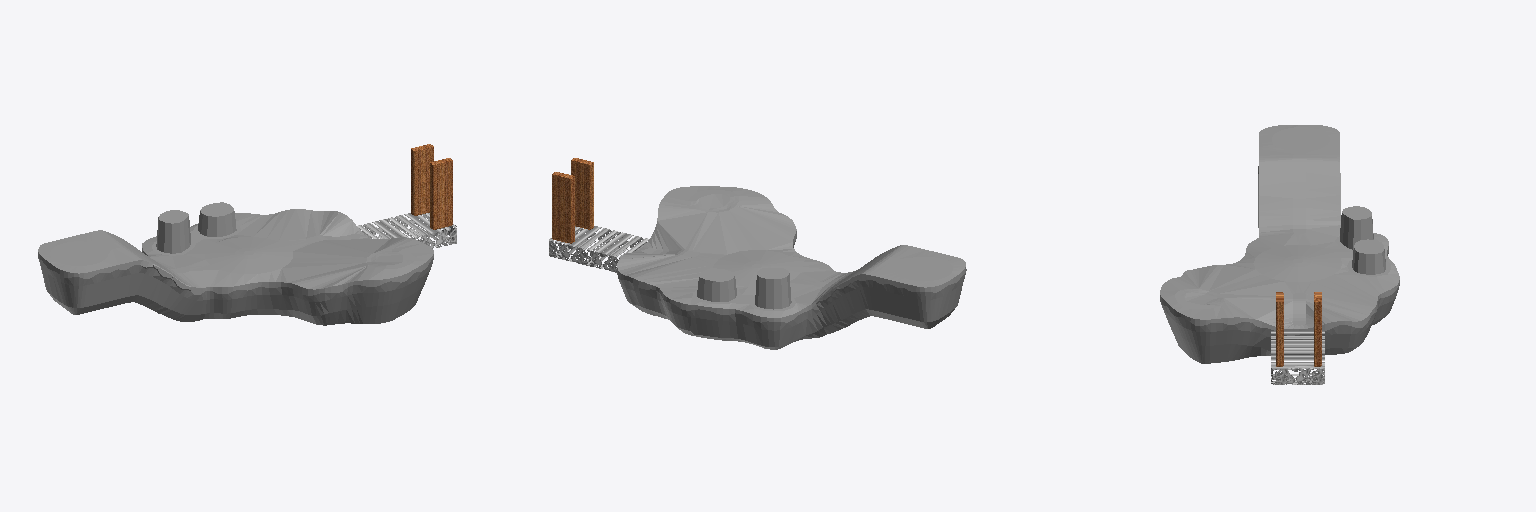
3 renders of one model, left to right at view 1: azimuth 30°, elevation 25°; view 2: azimuth 150°, elevation 25°; view 3: azimuth 270°, elevation 25°, orthographic.
Parts seen in each view (by area): view 1: Circle.001, Circle.002_Circle.003, Circle.000_Circle.002, Circle.003_Circle.004, Circle.004_Circle.006; view 2: Circle.001, Circle.002_Circle.003, Circle.000_Circle.002, Circle.003_Circle.004, Circle.004_Circle.006; view 3: Circle.001, Circle.002_Circle.003, Circle.000_Circle.002, Circle.004_Circle.006, Circle.003_Circle.004.
Part boxes in pixels (x1,y1,x2,y2): Circle.001: (38,209,433,295); Circle.002_Circle.003: (38,258,433,325); Circle.000_Circle.002: (108,202,410,272); Circle.003_Circle.004: (411,144,452,229); Circle.004_Circle.006: (357,213,456,248); Circle.001: (617,186,966,322); Circle.002_Circle.003: (619,241,965,349); Circle.000_Circle.002: (645,192,896,309); Circle.003_Circle.004: (552,158,593,243); Circle.004_Circle.006: (549,226,648,272); Circle.001: (1160,125,1399,335); Circle.002_Circle.003: (1161,253,1399,363); Circle.000_Circle.002: (1179,153,1385,324); Circle.004_Circle.006: (1271,331,1324,384); Circle.003_Circle.004: (1276,292,1321,366).
Size of the model in its own units: 5381 by 1283 by 2827.
6 materials, 2 textured.